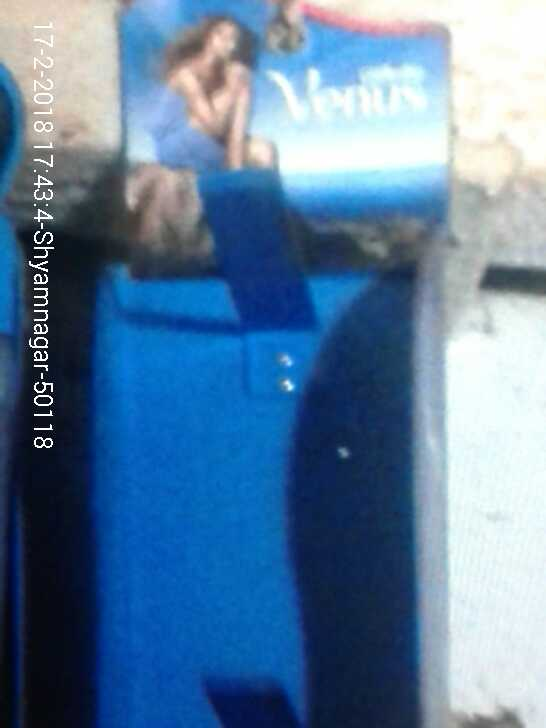reject: (263, 325, 398, 463)
